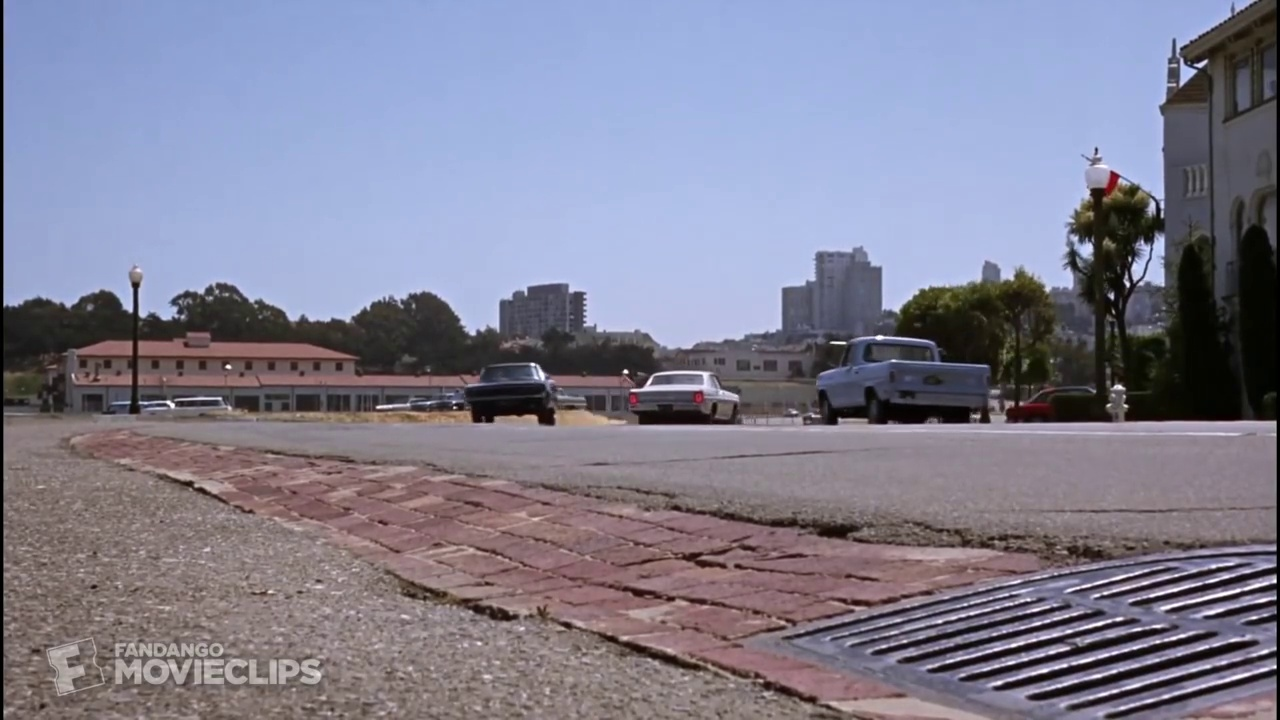car: (624, 366, 744, 429), (462, 359, 560, 428), (1000, 380, 1108, 428), (138, 388, 240, 425)
truck: (811, 333, 994, 428)
